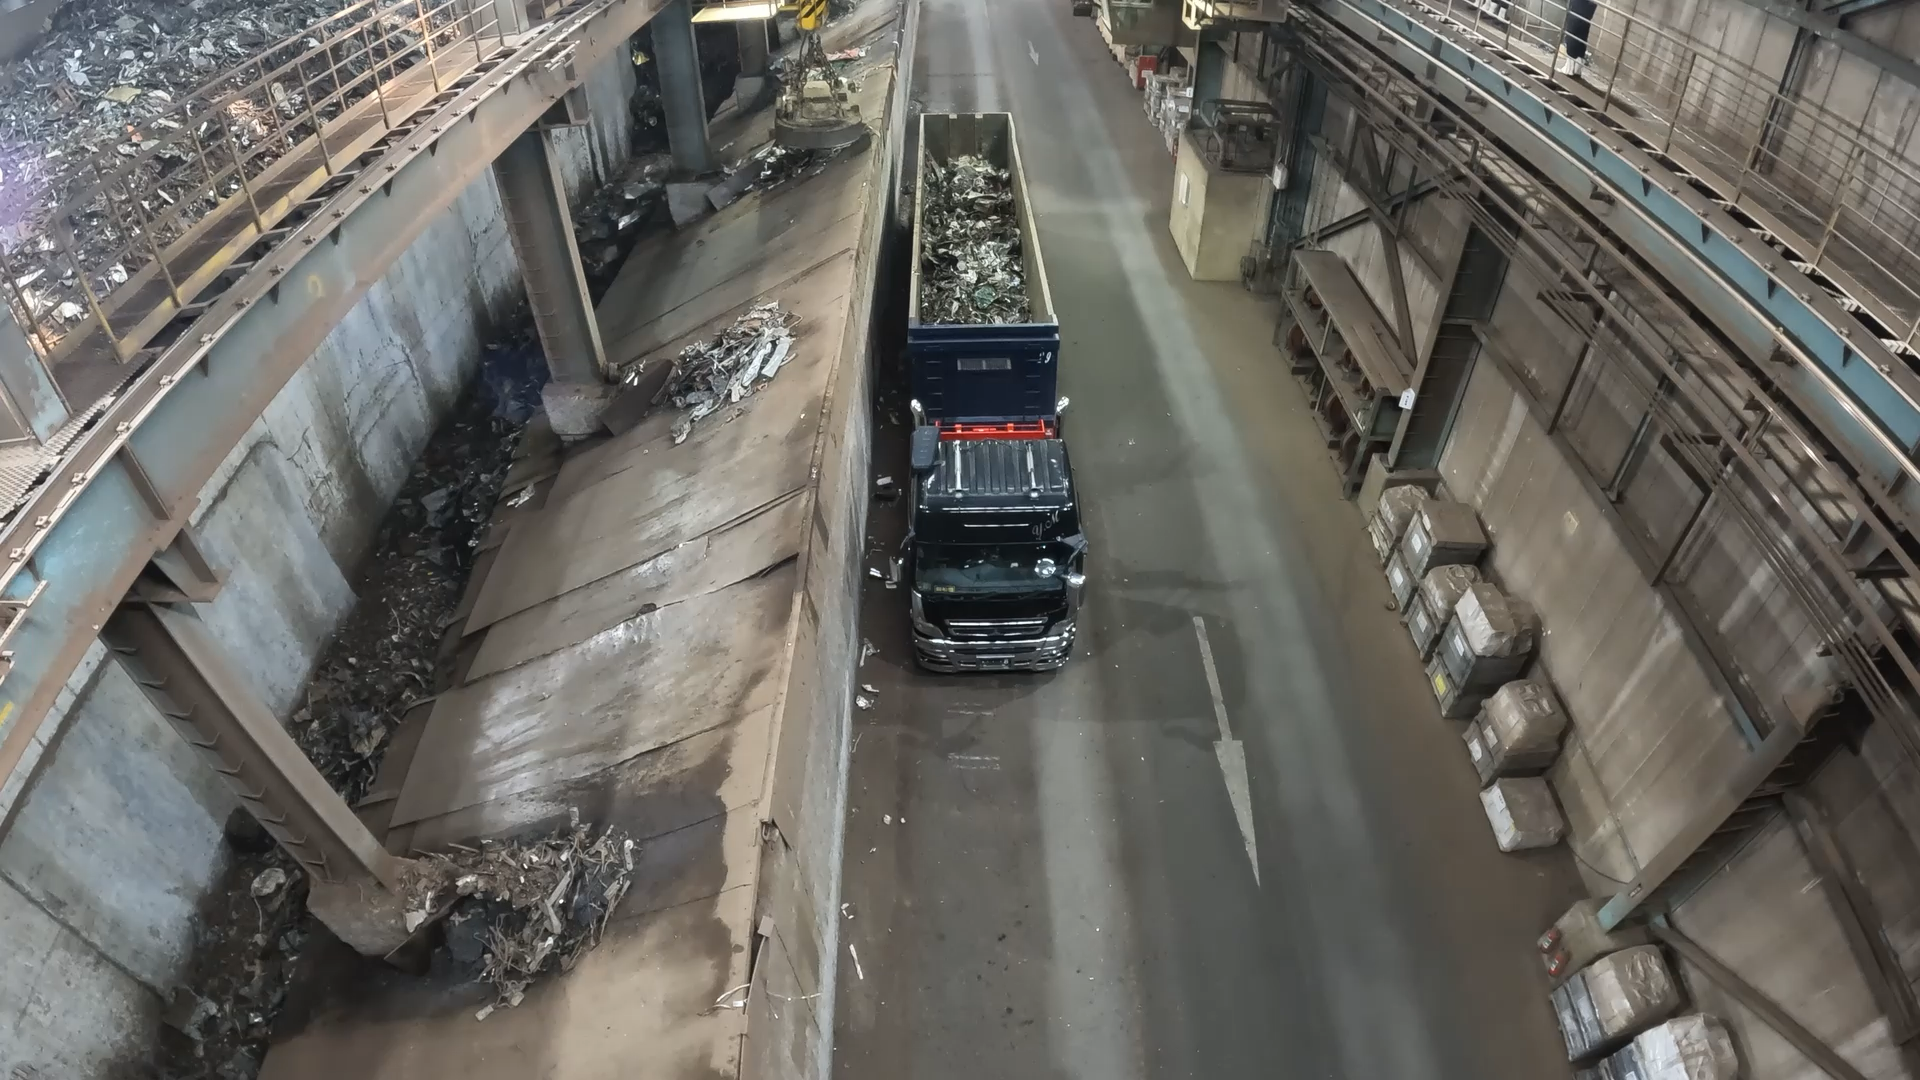truck: (913, 111, 1056, 326)
